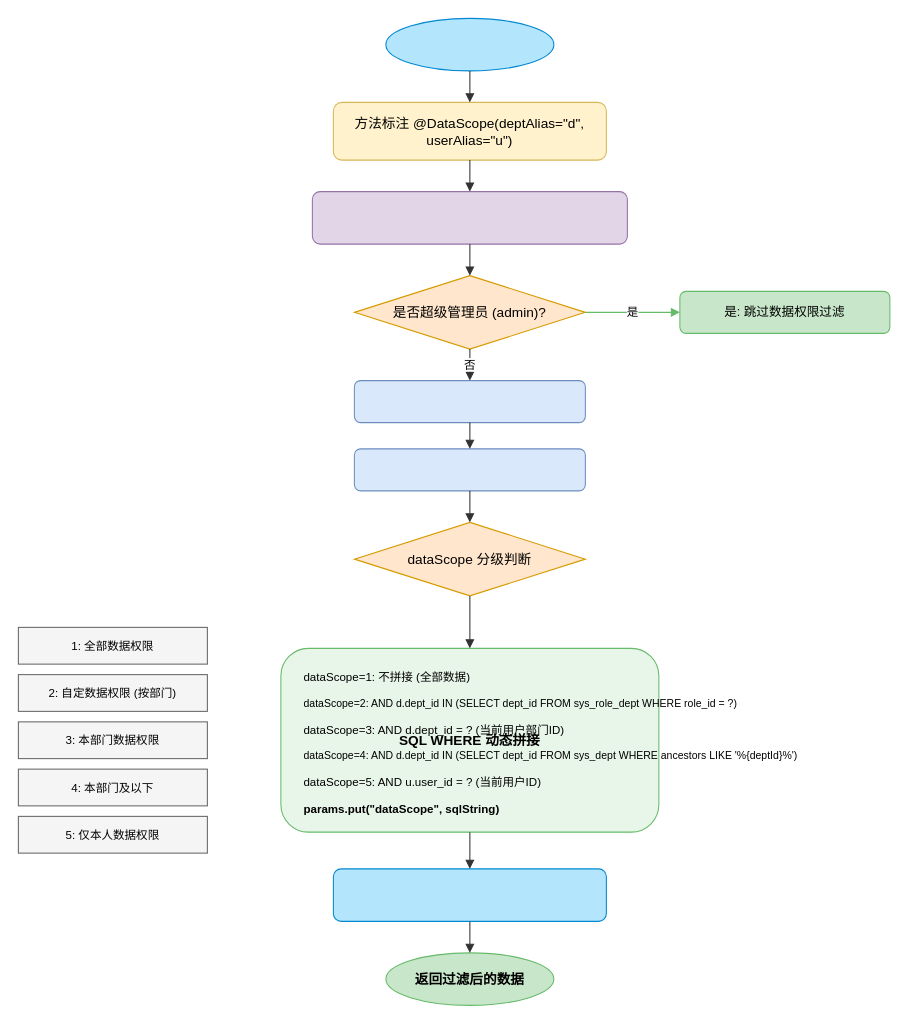
This 908x1024 diagram has some shape labels left out. Here are the shapes that lost their labels. From the top down, the centre of each, then its label:
(x=469, y=44): Service 方法调用
(x=469, y=217): DataScopeAspect 拦截 (Order=最高)
(x=469, y=401): 否: 获取当前用户的角色列表
(x=469, y=469): 遍历角色, 获取最小 dataScope
(x=469, y=894): Mapper 执行 SQL (MyBatis ${dataScope})
